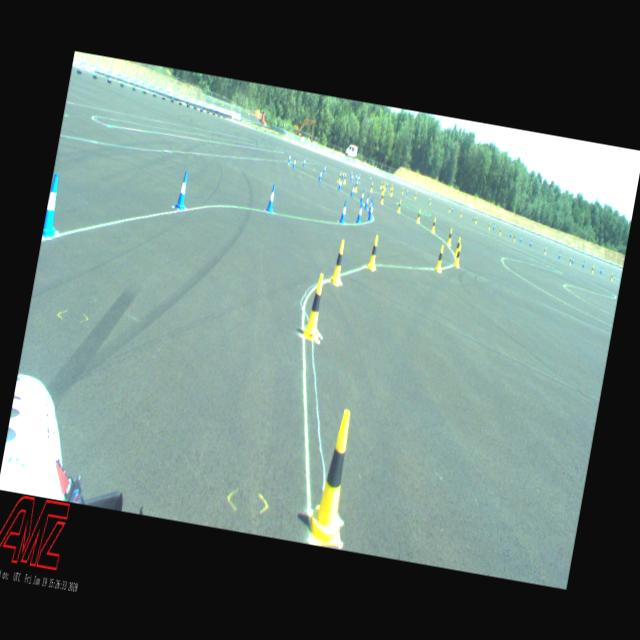blue_cone: (42, 172, 66, 238), (174, 170, 190, 210), (266, 183, 278, 212), (338, 200, 348, 223), (367, 201, 374, 220), (356, 202, 362, 222), (367, 198, 373, 214), (364, 193, 369, 209), (350, 184, 355, 197), (360, 188, 364, 202), (318, 169, 322, 182), (349, 172, 354, 182), (292, 156, 296, 168), (338, 178, 342, 190), (287, 152, 291, 162), (302, 157, 306, 166), (323, 164, 327, 173), (357, 173, 361, 182), (518, 235, 522, 242), (570, 257, 574, 264), (341, 170, 344, 178), (599, 267, 602, 274), (509, 230, 512, 237), (529, 240, 532, 247), (582, 260, 584, 268), (369, 176, 372, 181), (355, 173, 357, 180), (350, 170, 352, 177), (406, 188, 408, 195), (356, 175, 358, 182), (428, 196, 430, 203), (558, 252, 560, 258), (472, 214, 474, 220), (492, 223, 494, 229), (386, 181, 388, 187), (450, 206, 452, 212)
yellow_cone: (304, 406, 362, 546), (302, 272, 329, 341), (330, 239, 347, 284), (366, 234, 380, 270), (434, 244, 445, 272), (453, 244, 462, 267), (454, 236, 461, 255), (446, 228, 453, 245), (431, 218, 437, 232), (396, 199, 402, 212), (416, 209, 421, 222), (353, 182, 358, 192), (369, 182, 374, 192), (338, 172, 342, 183), (343, 173, 347, 184), (380, 192, 384, 203), (389, 187, 393, 196), (380, 185, 384, 194), (590, 266, 594, 274), (568, 256, 572, 264), (474, 216, 478, 223), (512, 234, 516, 241), (542, 248, 546, 255), (610, 272, 613, 280), (383, 182, 386, 190), (498, 228, 501, 235), (401, 188, 404, 195), (389, 183, 392, 190), (459, 210, 462, 217), (380, 180, 382, 189), (383, 180, 385, 188), (488, 223, 490, 230), (414, 192, 416, 198), (448, 206, 450, 212), (429, 198, 431, 204)
